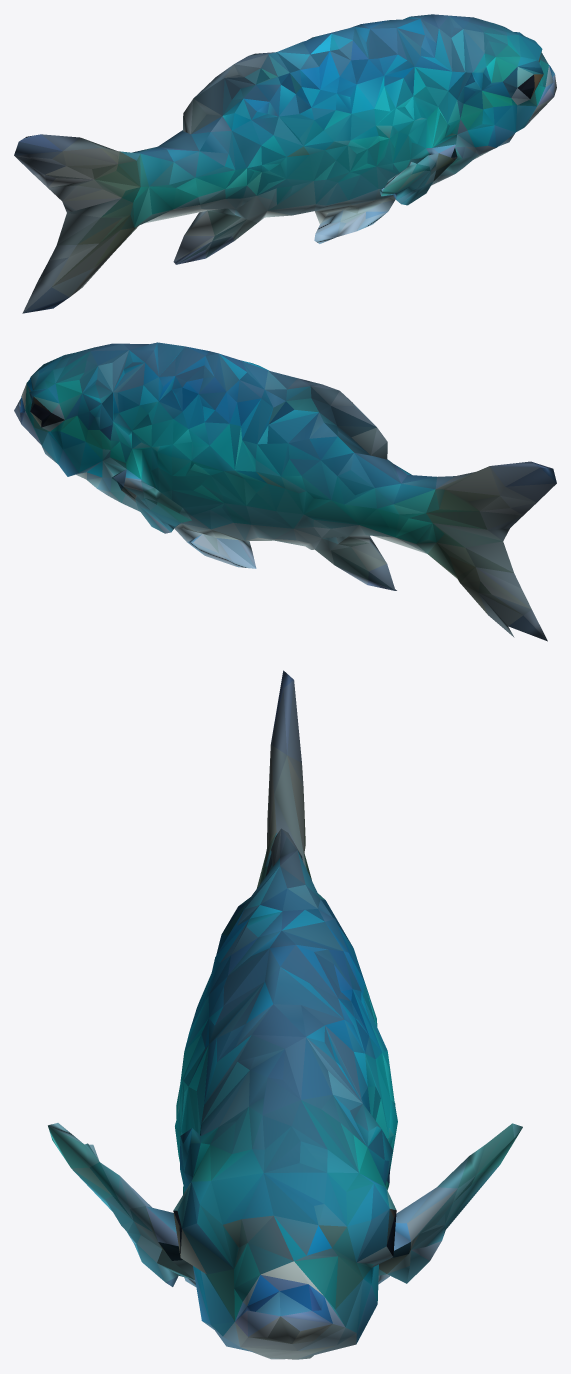
The model's file is chromis.glb.
3 renders of one model, top to bottom at view 1: azimuth 30°, elevation 25°; view 2: azimuth 150°, elevation 25°; view 3: azimuth 270°, elevation 25°, orthographic. The views are drawn at different scales.
Parts seen in each view (by area): view 1: geometry_0; view 2: geometry_0; view 3: geometry_0.
Boxes of the visible parts, bbox=[...] form: geometry_0: bbox=[14, 14, 556, 313]; geometry_0: bbox=[14, 342, 556, 641]; geometry_0: bbox=[48, 670, 522, 1359].
Size of the model in its own units: 0.05 by 0.0186 by 0.0191.
Materials: 1 (1 with a texture image).
